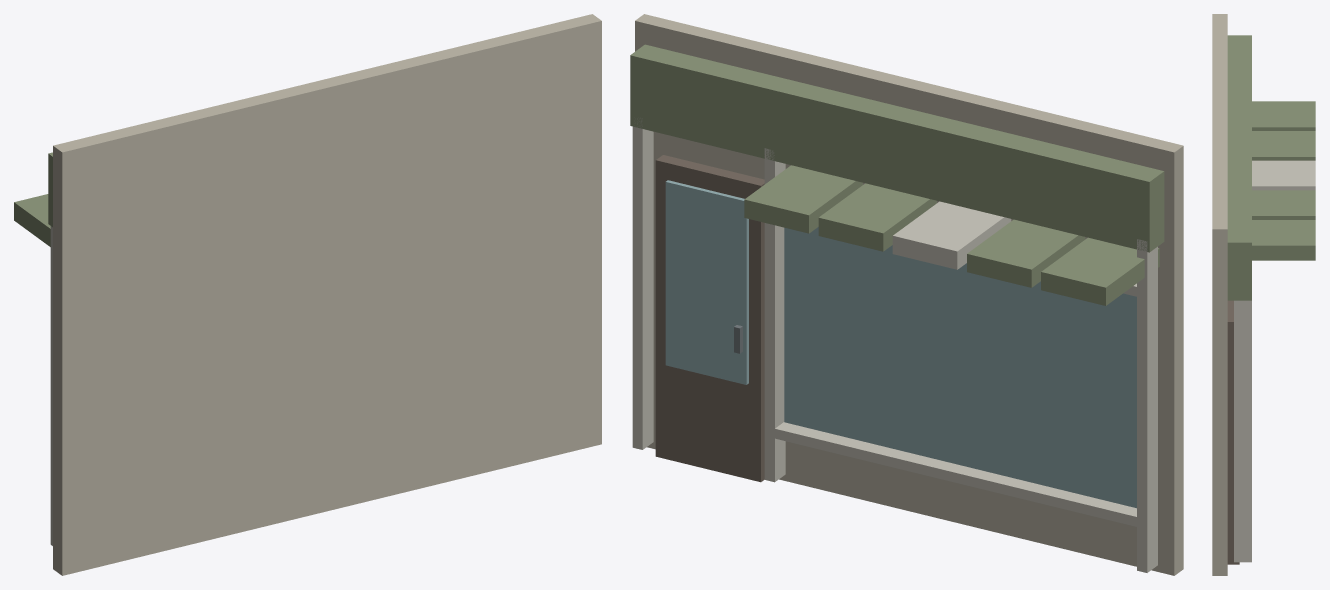
File: facade_market.glb
The picture shows the model from 3 angles, left to right: view 1: azimuth 30°, elevation 25°; view 2: azimuth 150°, elevation 25°; view 3: azimuth 270°, elevation 25°; orthographic projection. The views are drawn at different scales.
Visible parts, largest first — view 1: body; view 2: body; view 3: body.
Part boxes in pixels (x1,y1,x2,y2): body: (14,14,601,575); body: (630,14,1183,575); body: (1212,14,1315,575).
Bounding box in the file's own units: 4 × 3 × 0.81.
